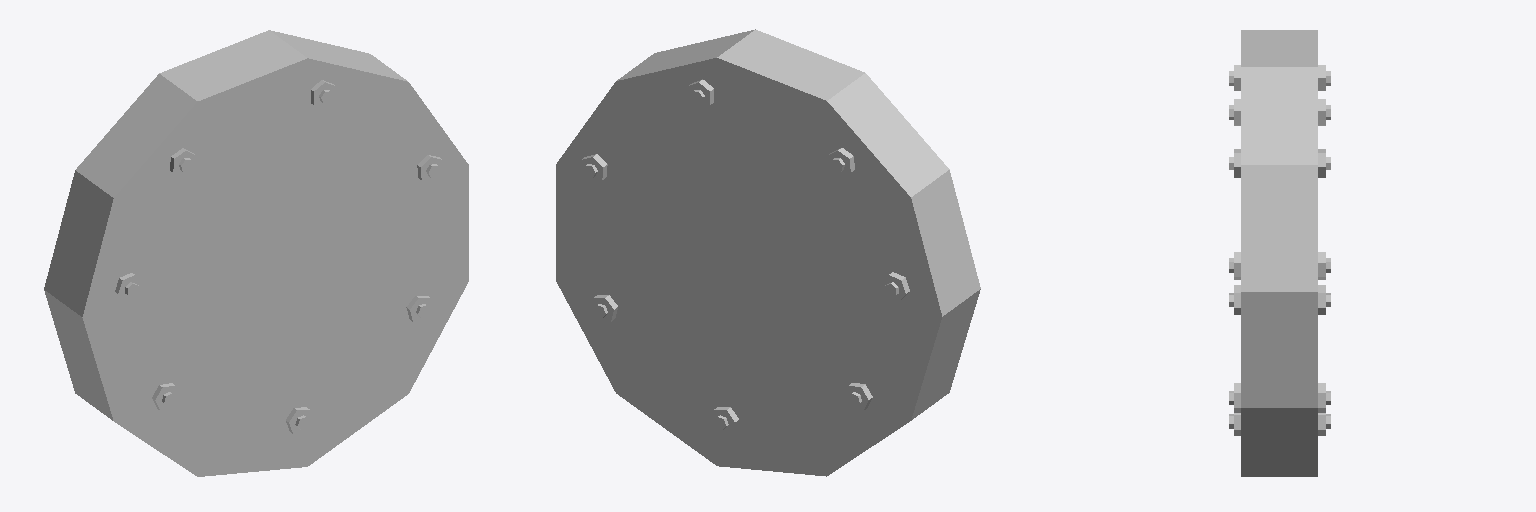
Rendered from Pipe_conection.obj.
The picture shows the model from 3 angles: view 1: azimuth 30°, elevation 25°; view 2: azimuth 150°, elevation 25°; view 3: azimuth 270°, elevation 25°; orthographic projection.
Parts seen in each view (by area): view 1: Pipe_conection; view 2: Pipe_conection; view 3: Pipe_conection.
Part boxes in pixels (x1,y1,x2,y2): Pipe_conection: (44, 30, 468, 476); Pipe_conection: (556, 29, 980, 476); Pipe_conection: (1229, 30, 1330, 476).
Bounding box in the file's own units: 29.24 × 29.54 × 6.67.